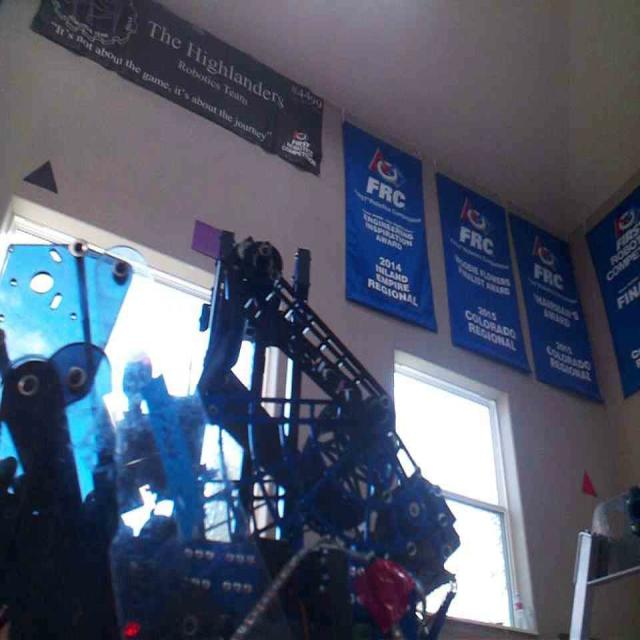square_purple: (188, 218, 220, 258)
triangle_black: (21, 158, 59, 195)
triangle_red: (580, 469, 597, 495)
